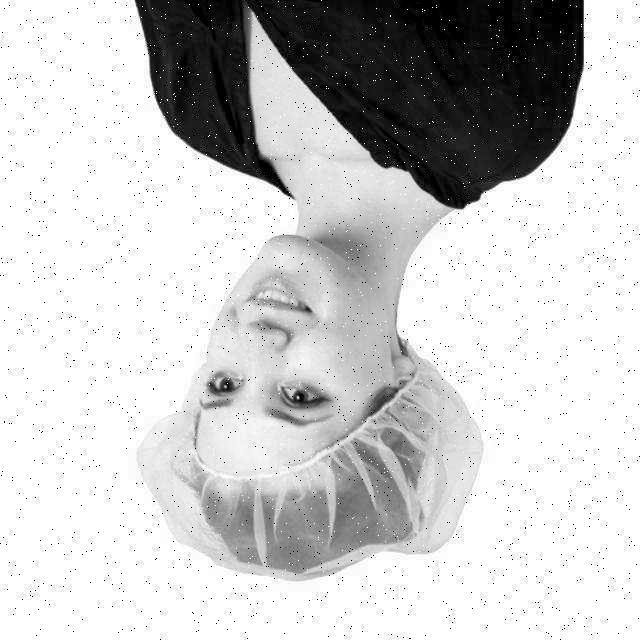no_hairnet: (222, 258, 376, 371)
